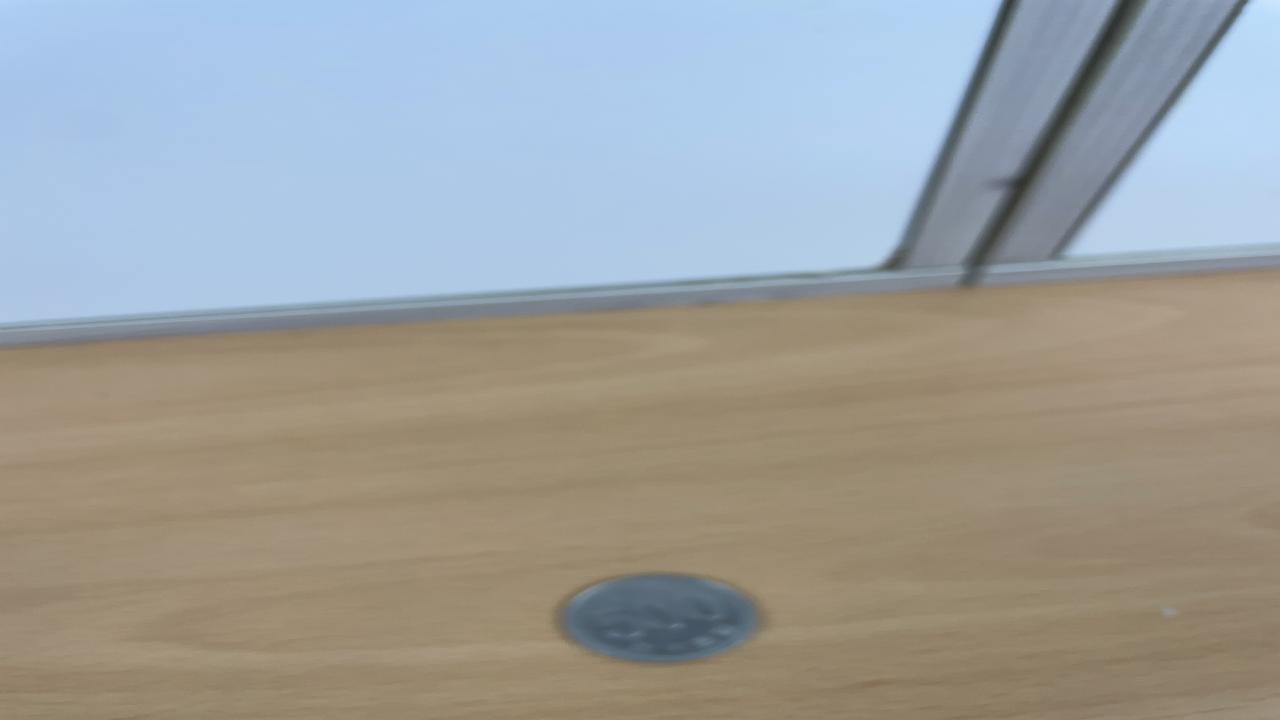coin: (552, 570, 770, 664)
